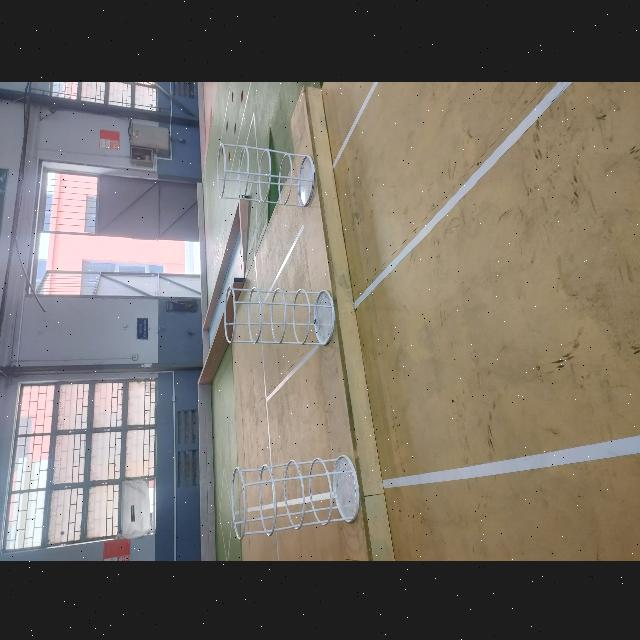S: (229, 452, 361, 539), (222, 283, 335, 345), (215, 139, 316, 207)
